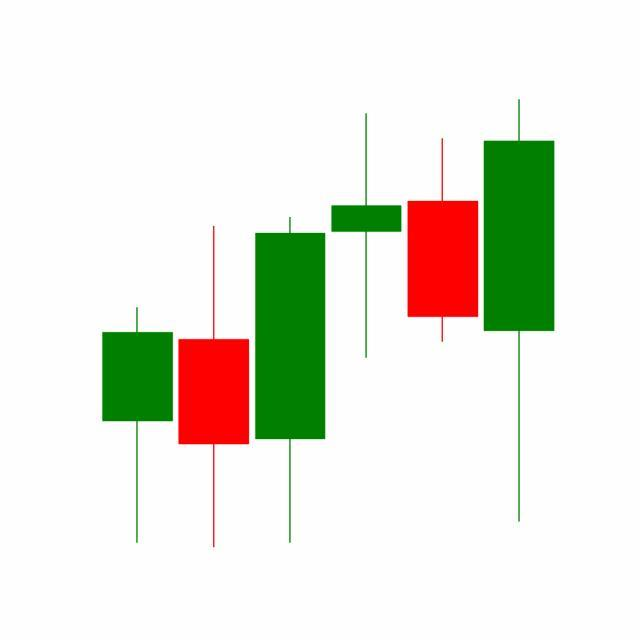Evening Star: (252, 109, 482, 548)
